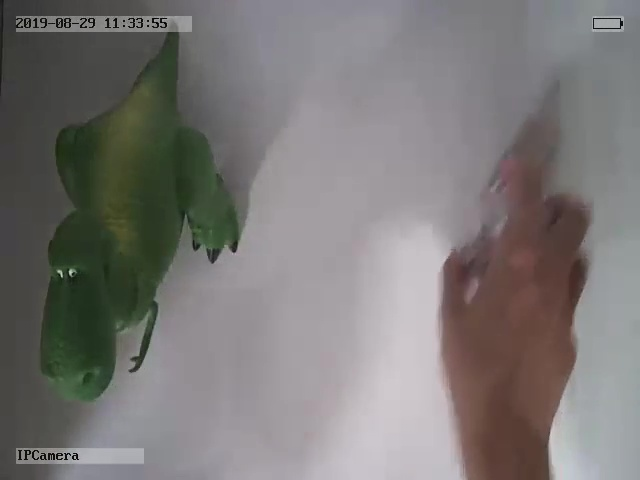rex: (39, 34, 240, 401)
